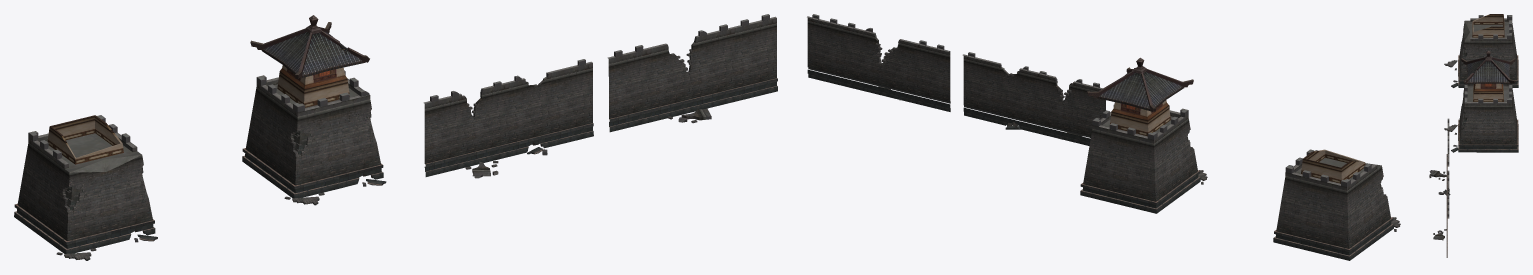
File: s7_cityelement_posui_01.FBX
The picture shows the model from 3 angles, left to right: view 1: azimuth 30°, elevation 25°; view 2: azimuth 150°, elevation 25°; view 3: azimuth 270°, elevation 25°; orthographic projection. The views are drawn at different scales.
Visible parts, largest first — view 1: s7_city_new_posuiqiang03, s7_city_new_posuiqiang01, s7_city_new_posuiqiang005, s7_city_new_posuiqiang02, s7_city_new_posuiqiang04, s7_city_new_posuiqiang007; view 2: s7_city_new_posuiqiang03, s7_city_new_posuiqiang005, s7_city_new_posuiqiang02, s7_city_new_posuiqiang01, s7_city_new_posuiqiang04, s7_city_new_posuiqiang007; view 3: s7_city_new_posuiqiang03, s7_city_new_posuiqiang005, s7_city_new_posuiqiang04, s7_city_new_posuiqiang007, s7_city_new_posuiqiang01, s7_city_new_posuiqiang02.
Boxes of the visible parts, <box> form: s7_city_new_posuiqiang03: <box>242,15,386,205</box>; s7_city_new_posuiqiang01: <box>423,59,593,178</box>; s7_city_new_posuiqiang005: <box>14,115,157,260</box>; s7_city_new_posuiqiang02: <box>607,14,777,132</box>; s7_city_new_posuiqiang04: <box>261,32,365,107</box>; s7_city_new_posuiqiang007: <box>47,115,123,164</box>; s7_city_new_posuiqiang03: <box>1080,57,1207,213</box>; s7_city_new_posuiqiang005: <box>1273,149,1400,260</box>; s7_city_new_posuiqiang02: <box>807,14,950,111</box>; s7_city_new_posuiqiang01: <box>962,52,1105,145</box>; s7_city_new_posuiqiang04: <box>1096,72,1184,136</box>; s7_city_new_posuiqiang007: <box>1301,149,1365,183</box>; s7_city_new_posuiqiang03: <box>1444,50,1518,152</box>; s7_city_new_posuiqiang005: <box>1444,15,1518,87</box>; s7_city_new_posuiqiang04: <box>1466,59,1510,101</box>; s7_city_new_posuiqiang007: <box>1472,14,1504,37</box>; s7_city_new_posuiqiang01: <box>1429,118,1450,205</box>; s7_city_new_posuiqiang02: <box>1433,170,1449,257</box>.
Size of the model in its own units: 117 by 24.62 by 22.02.
